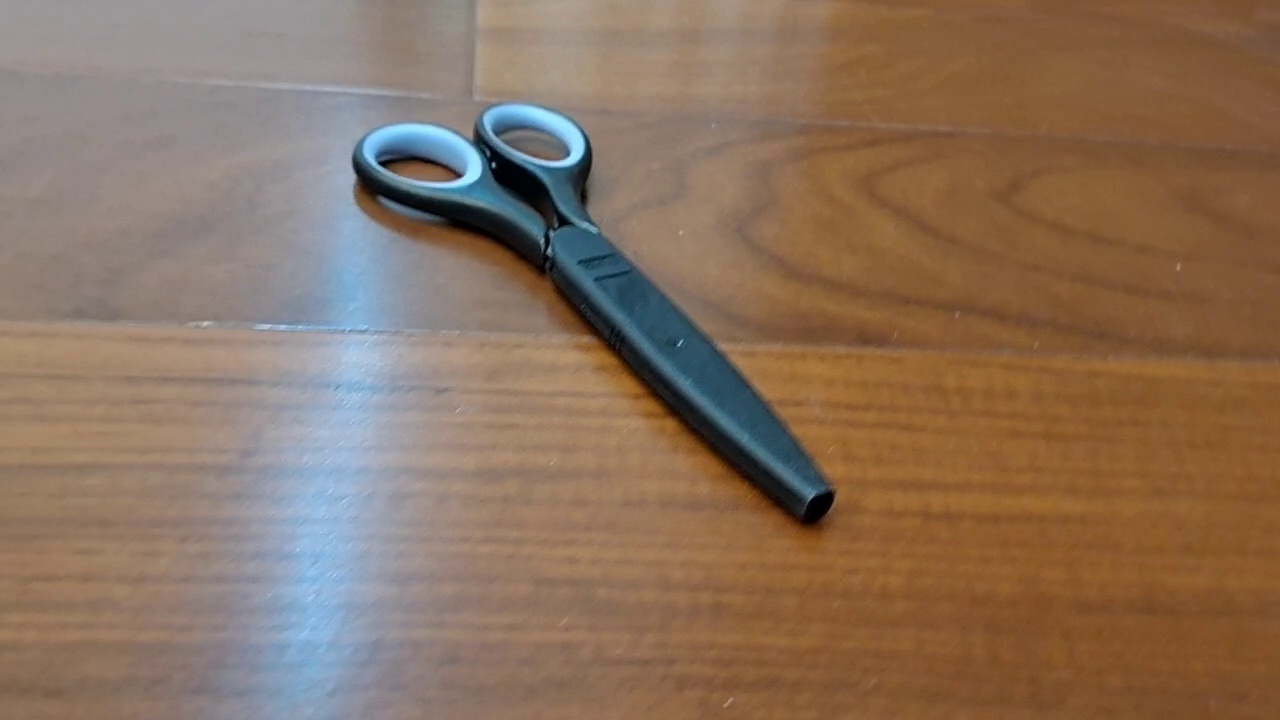scissors: (352, 102, 836, 526)
